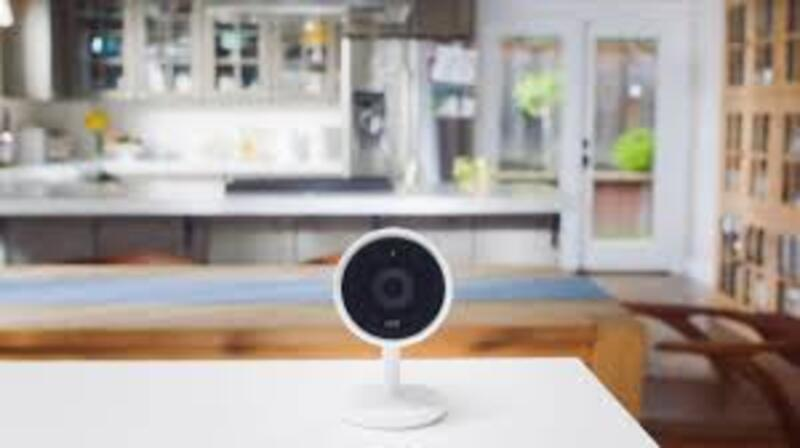nest: (321, 227, 450, 351)
